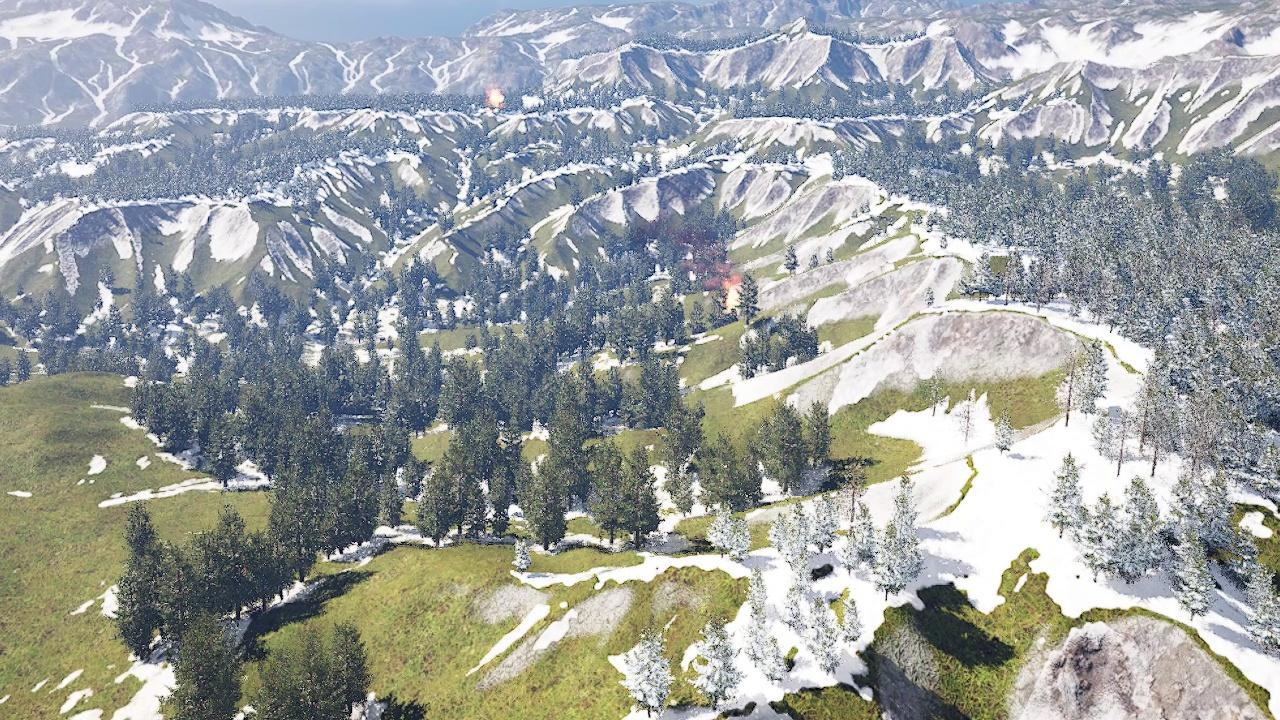fire: (721, 282, 741, 311), (488, 88, 505, 106)
smoke: (671, 216, 738, 285), (478, 44, 512, 92)
